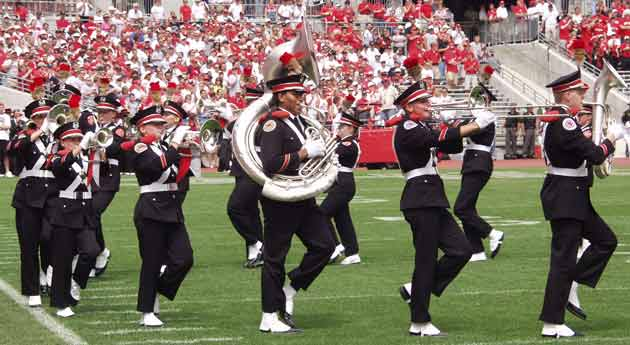feet: (390, 281, 453, 341), (538, 289, 593, 342), (255, 285, 309, 335), (131, 289, 179, 326), (465, 227, 510, 262), (16, 267, 55, 305), (52, 281, 89, 316), (324, 240, 365, 267), (242, 238, 267, 271), (518, 150, 539, 162), (504, 148, 519, 160)
